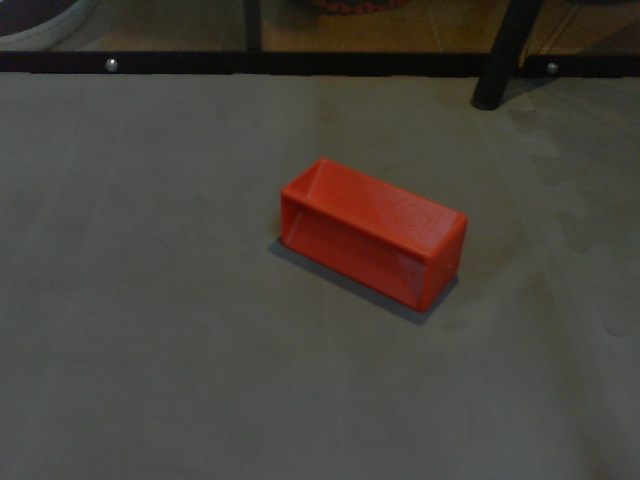RedSample: (276, 154, 468, 314)
